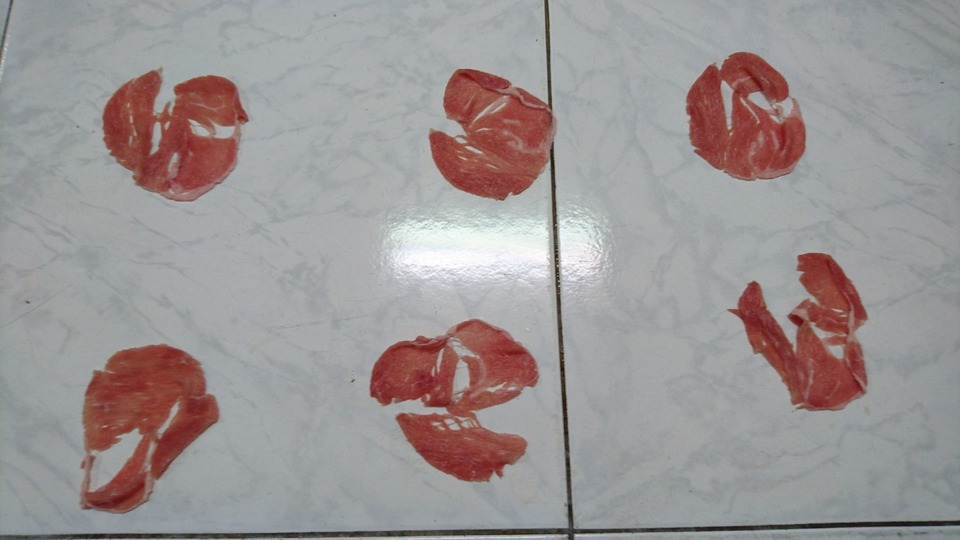restructured meat: (67, 312, 230, 519), (377, 286, 538, 489), (84, 46, 253, 206), (732, 240, 875, 414), (669, 41, 820, 189), (426, 54, 549, 199)
